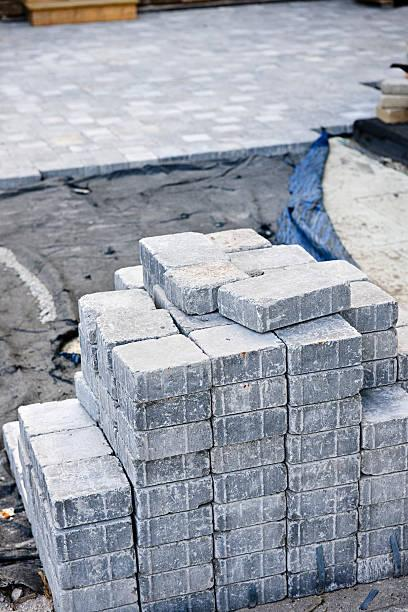Bricks: (29, 518, 138, 611), (32, 467, 134, 562), (219, 266, 350, 333), (79, 289, 178, 368), (32, 519, 135, 591), (32, 455, 133, 528), (112, 334, 212, 403), (190, 324, 286, 386), (274, 313, 361, 375), (116, 407, 212, 459), (115, 379, 212, 430), (115, 436, 211, 486), (166, 261, 250, 314), (26, 423, 115, 467), (136, 474, 214, 518), (147, 248, 231, 288), (19, 393, 97, 436), (210, 405, 288, 448), (137, 504, 213, 548), (211, 375, 288, 418), (138, 562, 215, 604), (358, 382, 407, 448), (138, 533, 215, 574), (214, 461, 290, 502), (340, 279, 397, 333), (213, 490, 287, 531), (288, 395, 362, 436), (289, 365, 361, 407), (215, 520, 287, 561), (288, 425, 359, 466), (225, 243, 315, 275), (288, 480, 359, 520), (140, 233, 216, 270), (287, 509, 359, 548), (216, 547, 286, 587), (216, 572, 287, 611), (213, 435, 286, 472), (288, 455, 360, 492), (288, 536, 358, 573), (288, 563, 357, 600), (264, 258, 369, 281), (168, 303, 239, 335), (359, 549, 407, 586), (356, 523, 407, 557), (358, 497, 407, 532), (359, 470, 407, 504), (142, 589, 216, 611), (361, 440, 407, 475), (207, 227, 272, 251), (74, 371, 100, 425), (361, 357, 398, 390), (361, 329, 396, 362), (6, 436, 31, 479), (98, 377, 119, 426), (98, 405, 118, 452), (78, 327, 97, 372), (0, 421, 23, 456), (396, 321, 407, 394), (114, 264, 143, 291), (81, 356, 99, 399), (98, 359, 115, 400), (16, 467, 33, 507), (153, 284, 175, 308), (95, 602, 140, 611), (395, 301, 407, 328), (143, 285, 156, 308)
